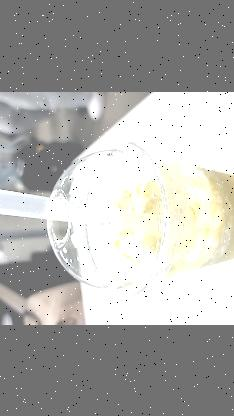Others: (46, 139, 234, 299), (47, 138, 175, 298), (0, 178, 155, 233)
